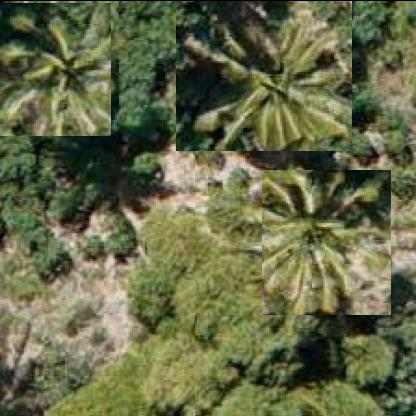coconut tree: (175, 1, 354, 151), (262, 169, 392, 315), (0, 2, 112, 136)
